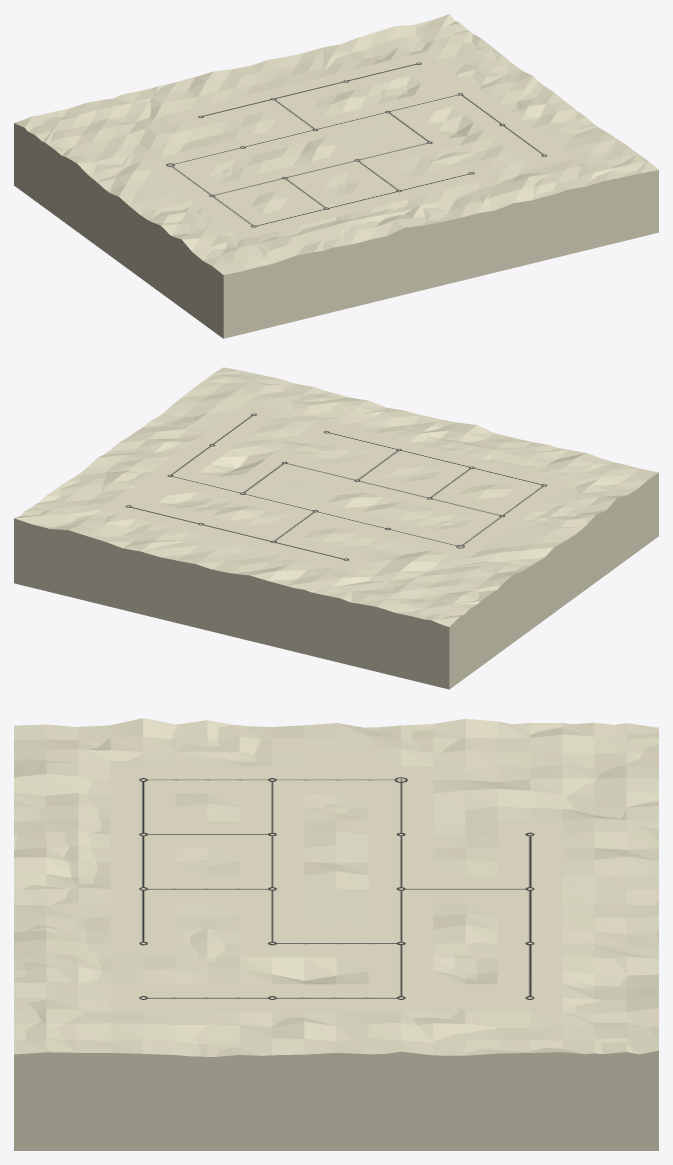
File: Nivell5.FBX
3 renders of one model, top to bottom at view 1: azimuth 30°, elevation 25°; view 2: azimuth 150°, elevation 25°; view 3: azimuth 270°, elevation 25°, orthographic. The views are drawn at different scales.
Parts seen in each view (by area): view 1: Plane002; view 2: Plane002; view 3: Plane002.
Boxes of the visible parts, x1=… form: Plane002: x1=14, y1=14, x2=658, y2=338; Plane002: x1=14, y1=367, x2=658, y2=689; Plane002: x1=14, y1=718, x2=658, y2=1150.
Bounding box in the file's own units: 30 × 4.52 × 25.
1 material, 1 textured.
